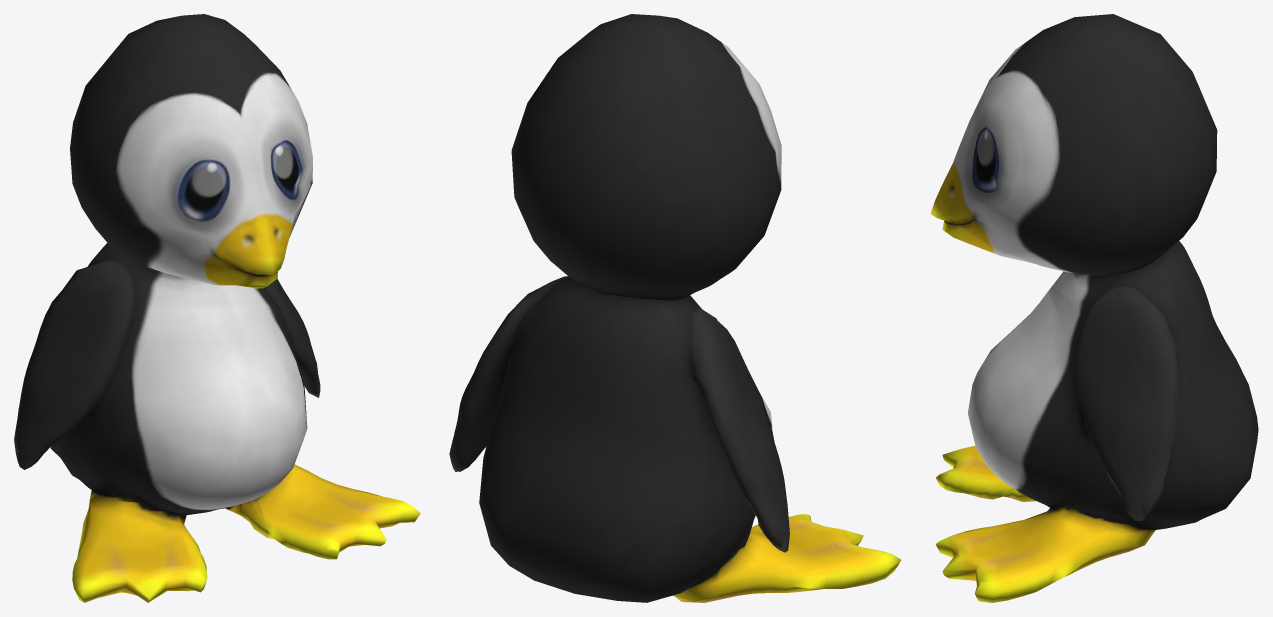
Rendered from toypenguin.fbx.
3 renders of one model, left to right at view 1: azimuth 30°, elevation 25°; view 2: azimuth 150°, elevation 25°; view 3: azimuth 270°, elevation 25°, orthographic. The views are drawn at different scales.
Parts seen in each view (by area): view 1: penguin; view 2: penguin; view 3: penguin.
Part boxes in pixels (bbox=[...]): penguin: bbox=[14, 14, 420, 602]; penguin: bbox=[449, 14, 901, 602]; penguin: bbox=[930, 14, 1258, 602].
Bounding box in the file's own units: 152 × 216 × 128.
1 material, 1 textured.
